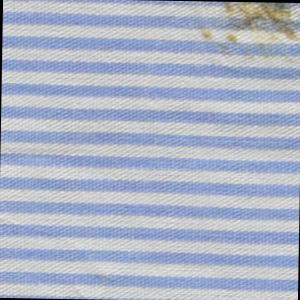Oil Stain: (198, 1, 300, 66)
Wrinkle: (1, 216, 118, 286)
